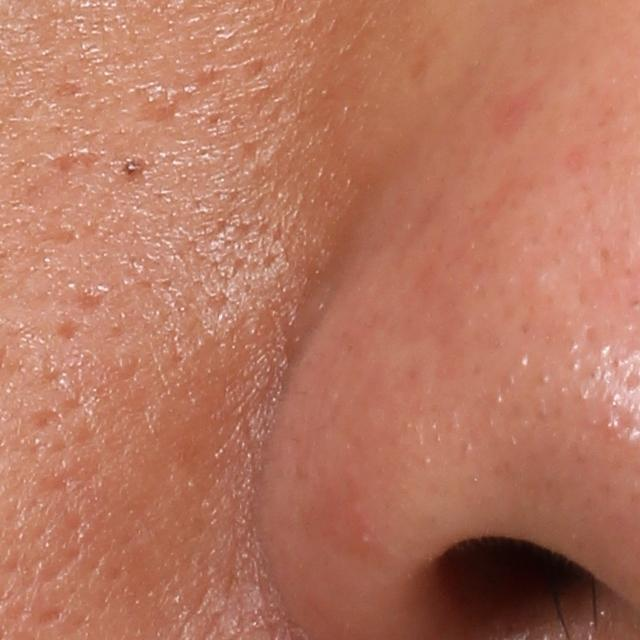atrophic_scar: (127, 85, 188, 128), (48, 150, 94, 172), (75, 284, 109, 313), (53, 316, 88, 338)
nevus: (119, 156, 145, 178)
